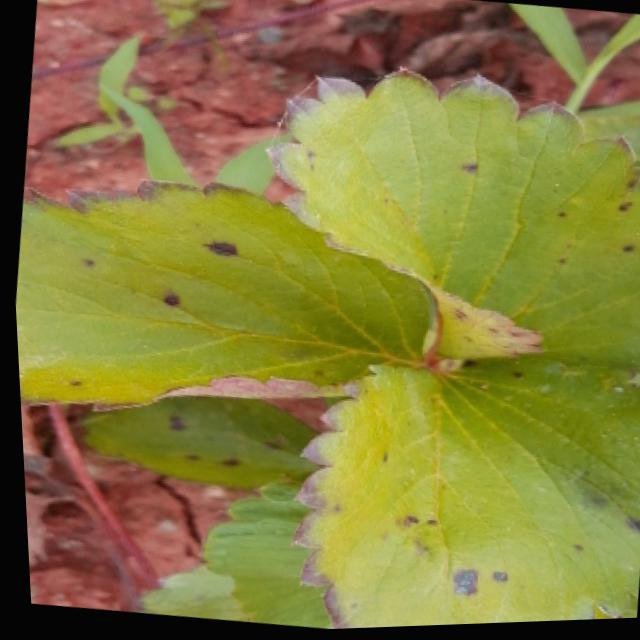Leaf Spot: (263, 67, 640, 371), (283, 358, 640, 631), (12, 179, 442, 405), (62, 396, 317, 487), (125, 563, 246, 624)
